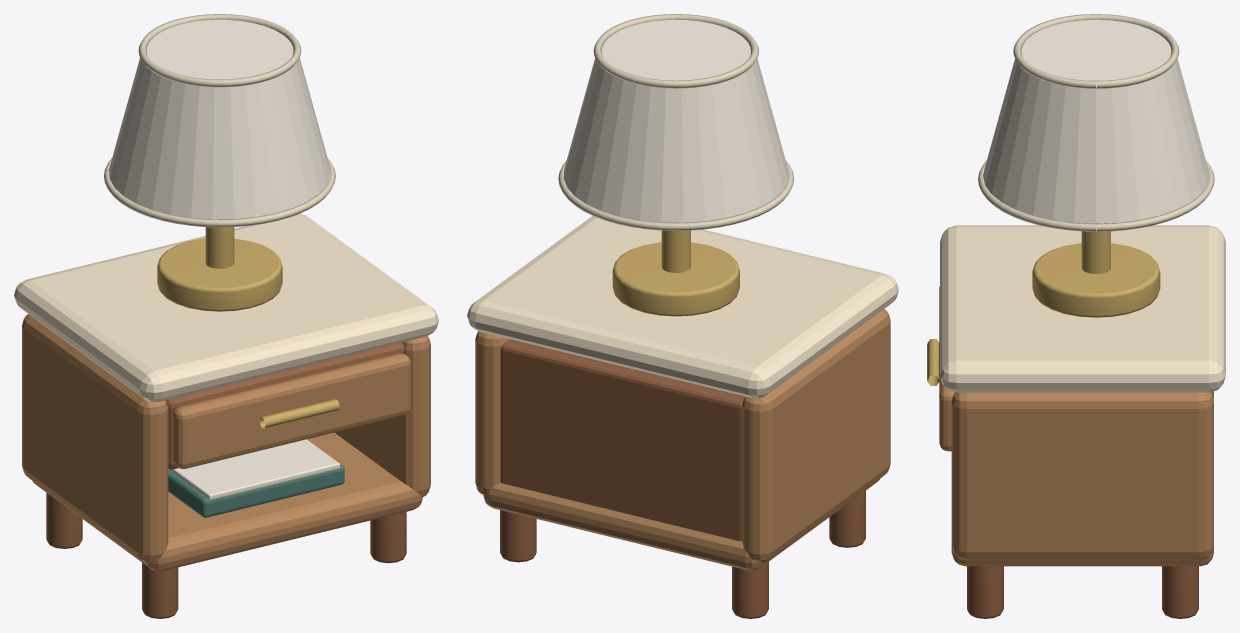
File: bedside-lamp.glb
3 views of the same model, side by side, from view 1: azimuth 30°, elevation 25°; view 2: azimuth 150°, elevation 25°; view 3: azimuth 270°, elevation 25° (orthographic). The views are drawn at different scales.
Visible parts, largest first — view 1: bedside-lamp / Oak, bedside-lamp / Ivory stone, bedside-lamp / Warm linen, bedside-lamp / Brass, bedside-lamp / Oak endgrain, bedside-lamp / Linen shadow, bedside-lamp / Sea glass runner; view 2: bedside-lamp / Oak endgrain, bedside-lamp / Ivory stone, bedside-lamp / Oak, bedside-lamp / Warm linen, bedside-lamp / Brass, bedside-lamp / Linen shadow; view 3: bedside-lamp / Oak, bedside-lamp / Ivory stone, bedside-lamp / Warm linen, bedside-lamp / Brass, bedside-lamp / Linen shadow, bedside-lamp / Oak endgrain.
Part boxes in pixels (x1=…): bedside-lamp / Oak: x1=22, y1=314, x2=430, y2=571; bedside-lamp / Ivory stone: x1=14, y1=214, x2=438, y2=401; bedside-lamp / Warm linen: x1=109, y1=19, x2=340, y2=500; bedside-lamp / Brass: x1=157, y1=227, x2=339, y2=428; bedside-lamp / Oak endgrain: x1=46, y1=343, x2=406, y2=618; bedside-lamp / Linen shadow: x1=104, y1=14, x2=335, y2=227; bedside-lamp / Sea glass runner: x1=168, y1=464, x2=344, y2=517; bedside-lamp / Oak endgrain: x1=500, y1=339, x2=865, y2=618; bedside-lamp / Ivory stone: x1=467, y1=216, x2=898, y2=398; bedside-lamp / Oak: x1=475, y1=309, x2=890, y2=570; bedside-lamp / Warm linen: x1=563, y1=19, x2=788, y2=222; bedside-lamp / Brass: x1=612, y1=230, x2=739, y2=316; bedside-lamp / Linen shadow: x1=558, y1=14, x2=794, y2=230; bedside-lamp / Oak: x1=939, y1=286, x2=1213, y2=566; bedside-lamp / Ivory stone: x1=940, y1=225, x2=1225, y2=392; bedside-lamp / Warm linen: x1=983, y1=19, x2=1209, y2=223; bedside-lamp / Brass: x1=927, y1=231, x2=1160, y2=385; bedside-lamp / Linen shadow: x1=978, y1=14, x2=1214, y2=231; bedside-lamp / Oak endgrain: x1=967, y1=566, x2=1198, y2=618.
Size of the model in its own units: 1.04 by 1.67 by 0.888.
